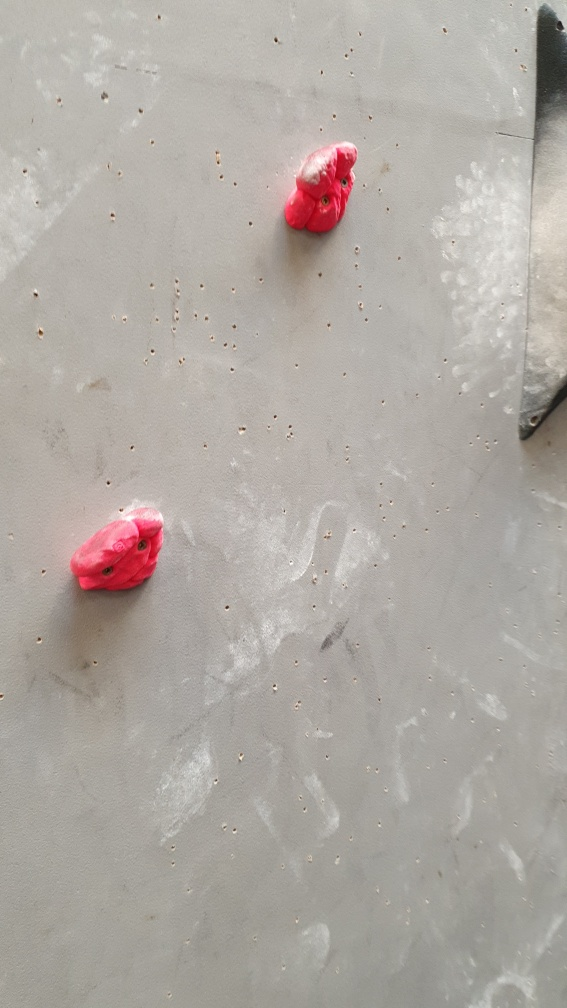Jug: (70, 496, 166, 602), (279, 136, 359, 236)
